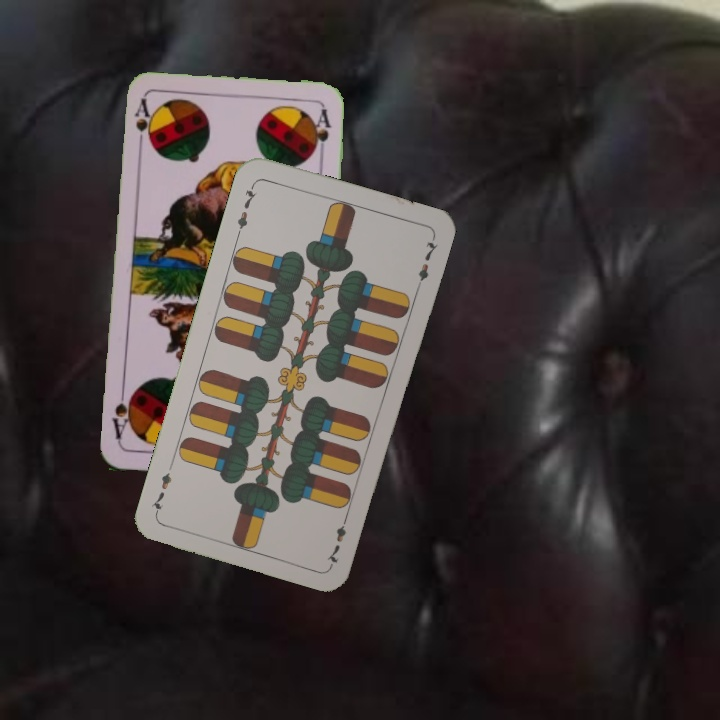E7: (323, 509, 351, 567), (233, 180, 260, 237)
SA: (130, 96, 151, 155)
